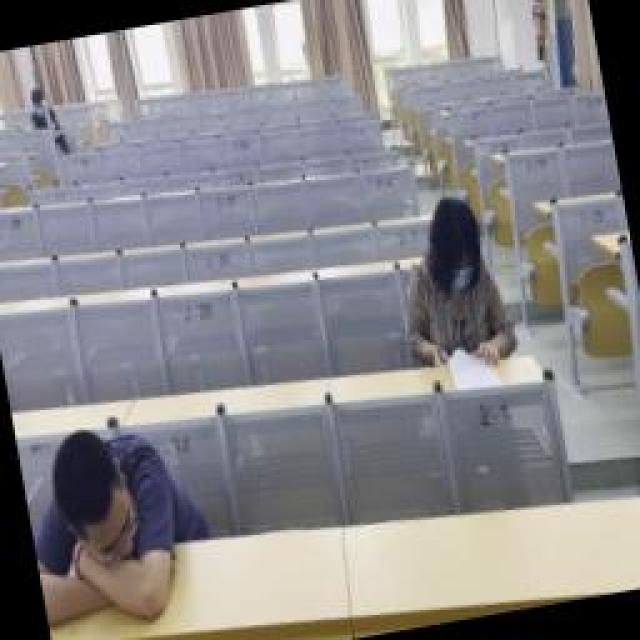sleep: (15, 412, 217, 640)
study: (390, 185, 525, 390), (25, 85, 57, 137)
